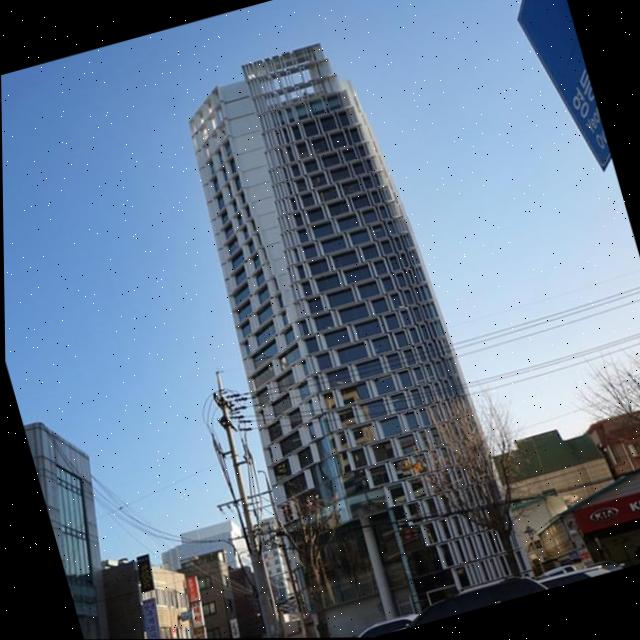building: (160, 21, 530, 639), (21, 406, 151, 640), (488, 400, 640, 579), (152, 487, 283, 639), (102, 524, 211, 639)
